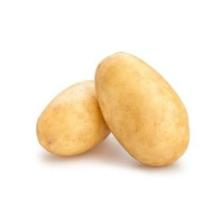Potato: (92, 49, 190, 169), (36, 78, 116, 156)
